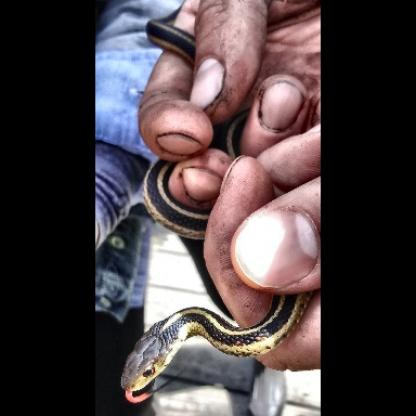Snake: (113, 121, 314, 416)
